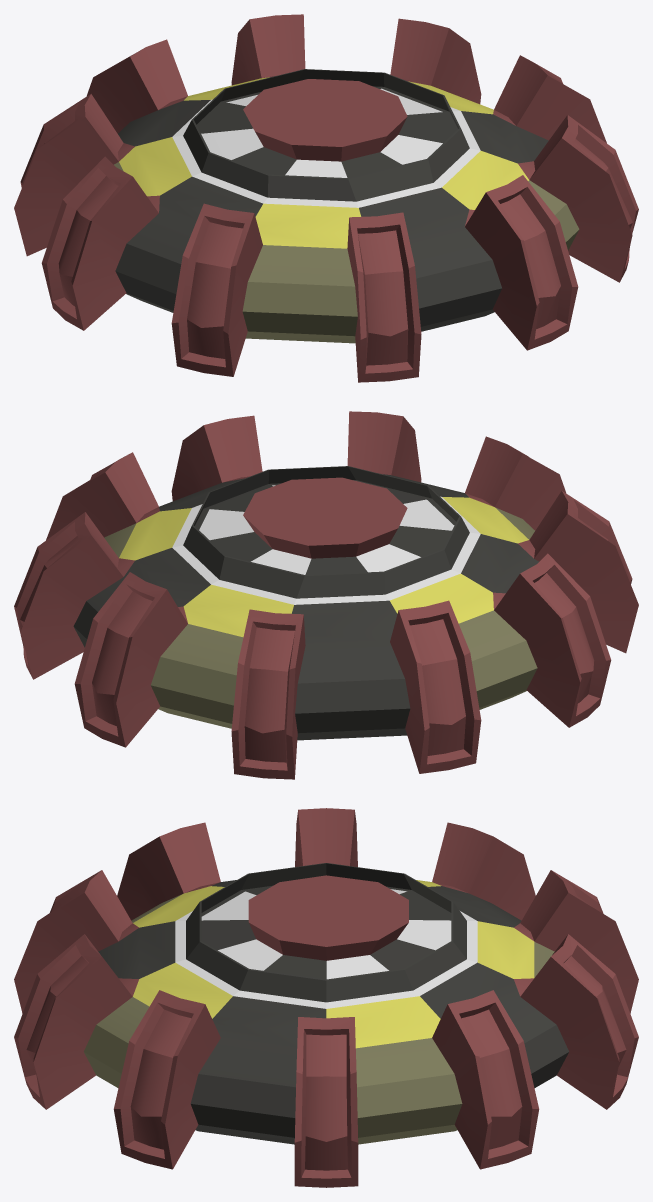
Rendered from mine_bomb.fbx.
3 renders of one model, top to bottom at view 1: azimuth 30°, elevation 25°; view 2: azimuth 150°, elevation 25°; view 3: azimuth 270°, elevation 25°, orthographic. The views are drawn at different scales.
Parts seen in each view (by area): view 1: pSphere1; view 2: pSphere1; view 3: pSphere1.
Part boxes in pixels (box(x1,y1,x2,y2)): pSphere1: box(14, 14, 638, 382); pSphere1: box(14, 411, 638, 779); pSphere1: box(14, 808, 638, 1187).
Size of the model in its own units: 2.36 by 0.7315 by 2.31.
